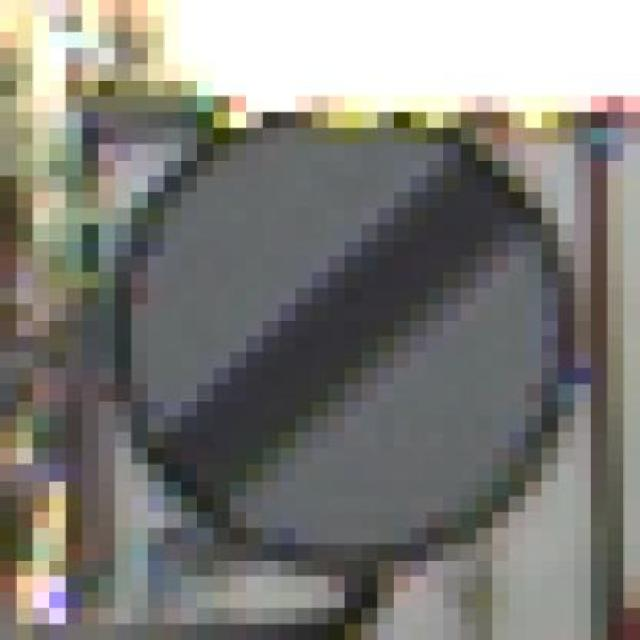End of all speed and passing limits: (109, 79, 568, 592)
